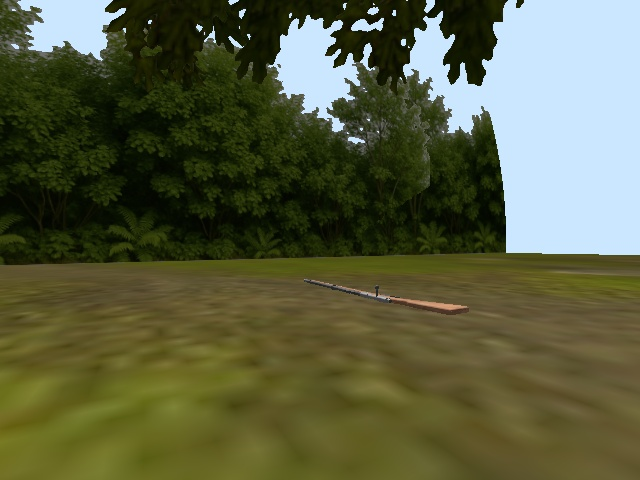rifle: (300, 276, 472, 317)
